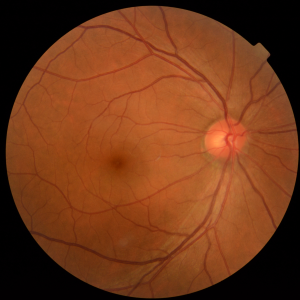healthy_eye: (43, 84, 270, 211)
